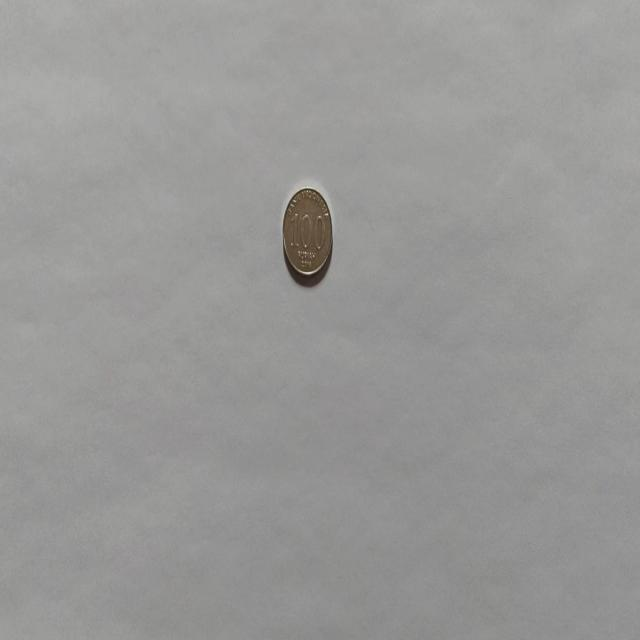seratus rupiah: (281, 185, 333, 280)
